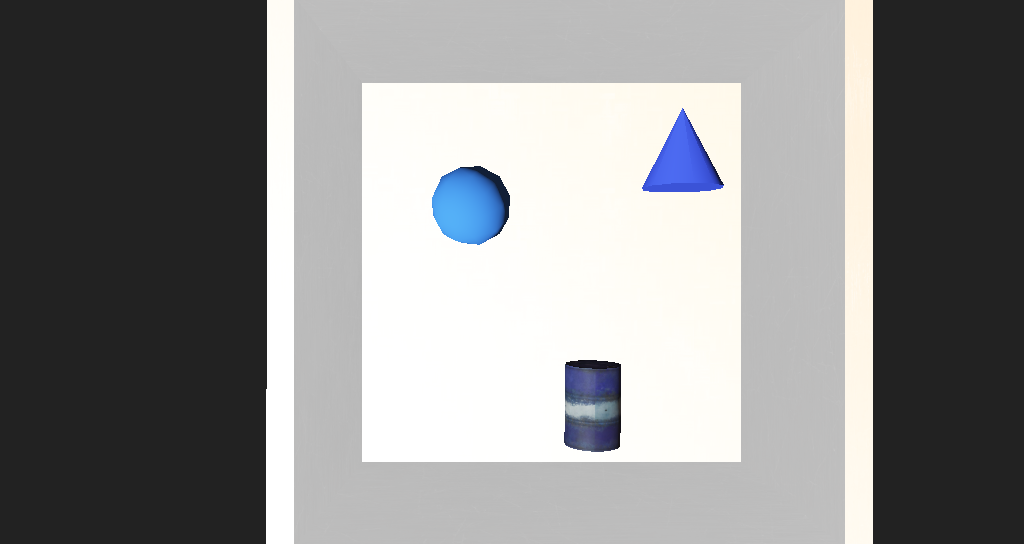cone: (515, 317, 563, 370)
cylinder: (573, 174, 640, 227)
sphere: (414, 212, 475, 255)
